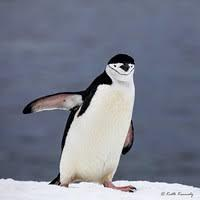chinstrap: (25, 46, 149, 183)
